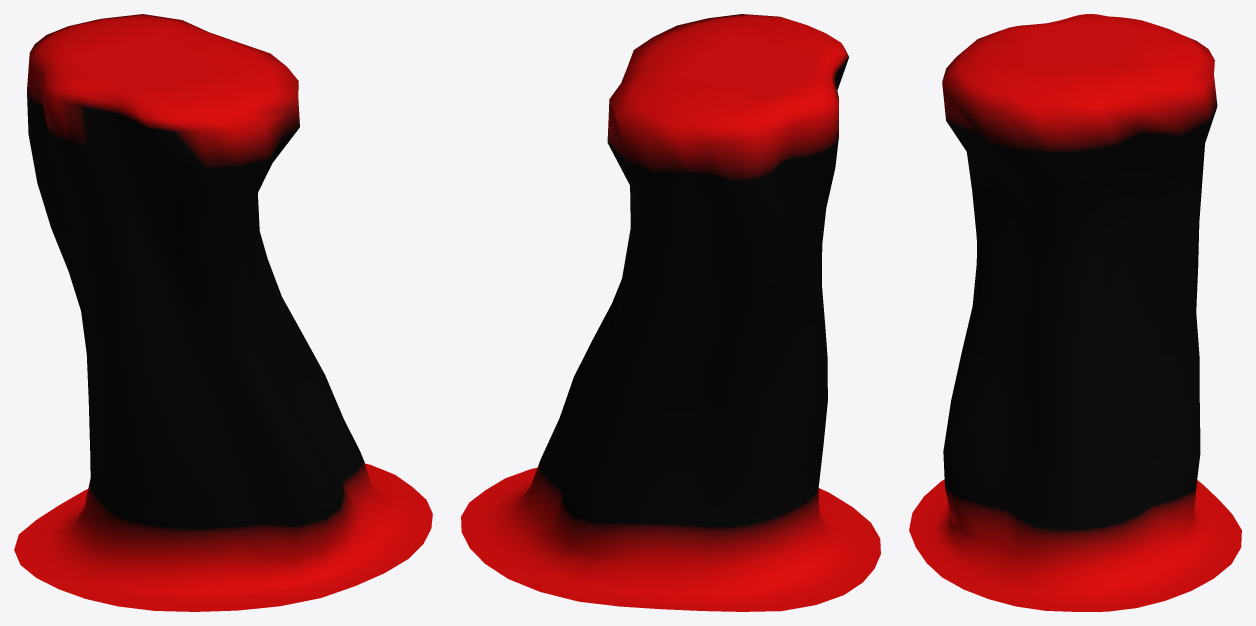
Rendered from GroundObject03A.fbx.
3 renders of one model, left to right at view 1: azimuth 30°, elevation 25°; view 2: azimuth 150°, elevation 25°; view 3: azimuth 270°, elevation 25°, orthographic. The views are drawn at different scales.
Parts seen in each view (by area): view 1: GroundObject03A; view 2: GroundObject03A; view 3: GroundObject03A.
Boxes of the visible parts, x1,y1,x2,y2 form: GroundObject03A: [14, 14, 432, 611]; GroundObject03A: [461, 14, 880, 611]; GroundObject03A: [909, 14, 1241, 611].
Size of the model in its own units: 1.61 by 2 by 1.35.
